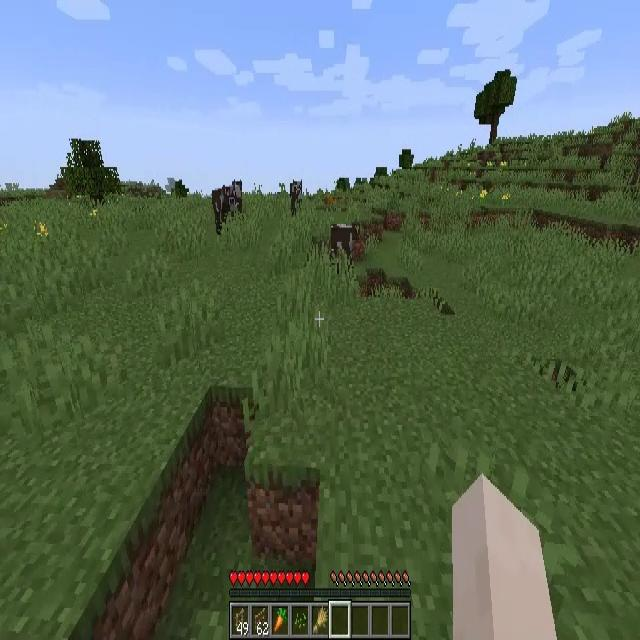cow: (329, 223, 362, 270), (211, 182, 242, 231), (289, 180, 303, 213)
flower: (36, 223, 48, 239), (502, 195, 509, 208)
